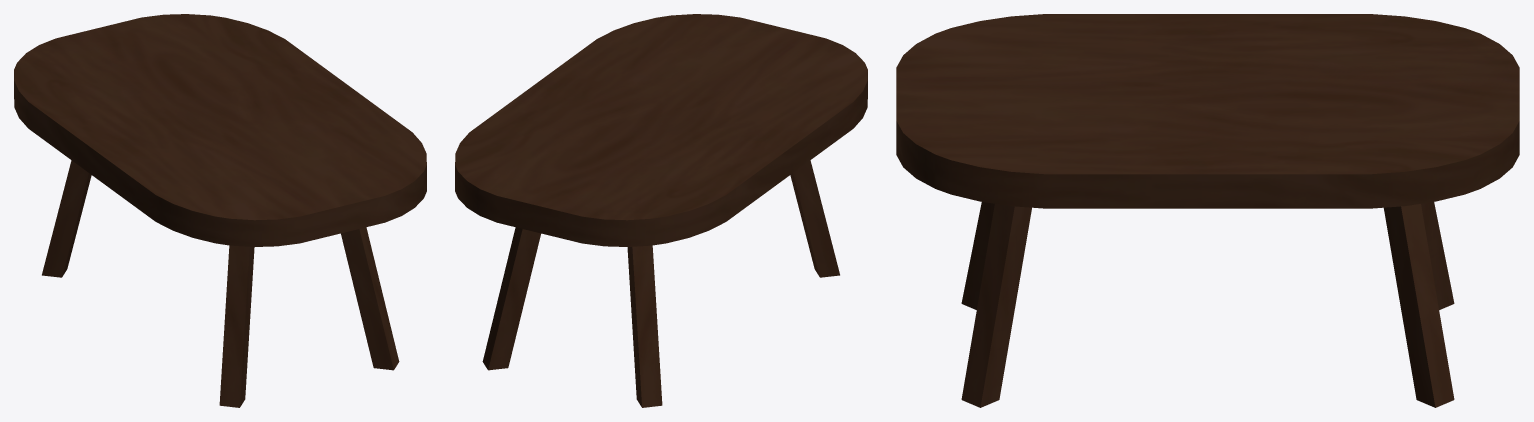
The model's file is Coffee Table.FBX.
3 views of the same model, side by side, from view 1: azimuth 30°, elevation 25°; view 2: azimuth 150°, elevation 25°; view 3: azimuth 270°, elevation 25° (orthographic). The views are drawn at different scales.
Visible parts, largest first — view 1: Box002; view 2: Box002; view 3: Box002.
Part boxes in pixels (bbox=[...]): Box002: bbox=[14, 14, 426, 407]; Box002: bbox=[455, 14, 867, 407]; Box002: bbox=[896, 14, 1519, 407].
Bounding box in the file's own units: 100 × 75 × 164.
1 material, 1 textured.
